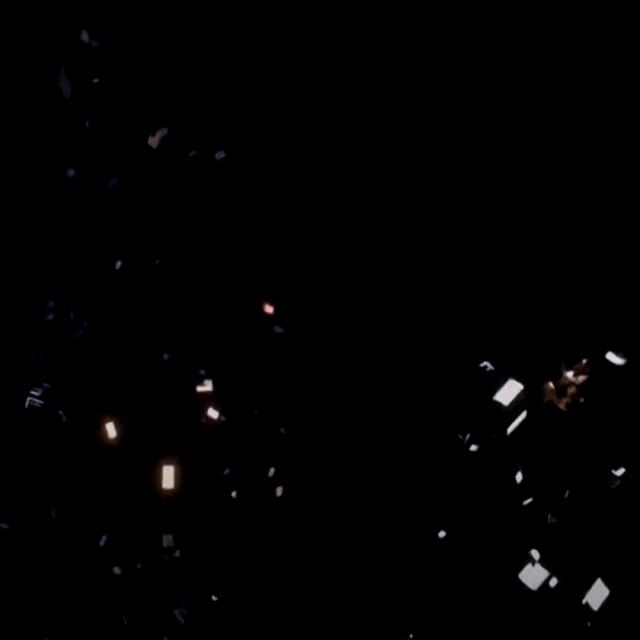large_debris: (540, 350, 598, 423), (515, 542, 567, 596), (574, 565, 617, 619), (488, 372, 532, 417), (18, 375, 56, 423), (51, 55, 78, 113), (601, 460, 633, 498), (500, 405, 532, 443), (142, 120, 173, 155), (156, 457, 180, 501), (600, 344, 632, 372), (192, 370, 216, 403), (155, 528, 179, 556), (201, 405, 229, 427), (102, 416, 120, 448), (259, 299, 277, 322), (510, 467, 529, 487), (263, 464, 281, 484), (434, 524, 451, 545), (544, 509, 561, 529), (274, 482, 288, 505)
